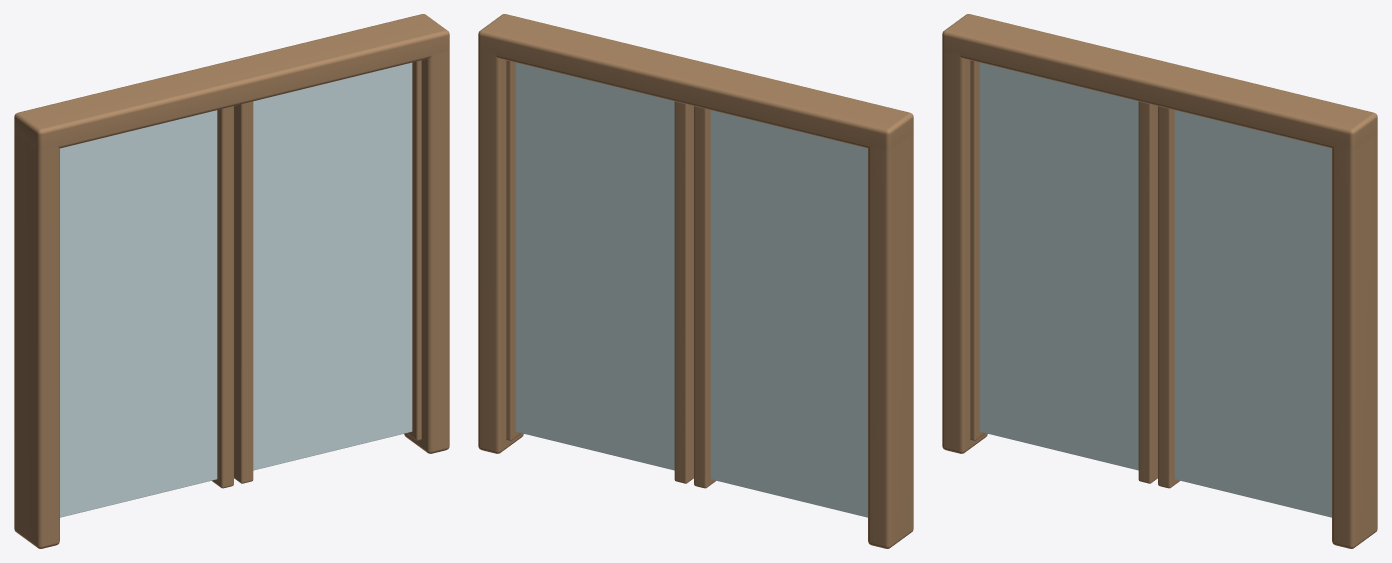
Rendered from atelier-sliding-window.glb.
The picture shows the model from 3 angles, left to right: view 1: azimuth 30°, elevation 25°; view 2: azimuth 150°, elevation 25°; view 3: azimuth 330°, elevation 25°; orthographic projection.
Parts seen in each view (by area): view 1: glass.031, legs.253; view 2: glass.031, legs.253; view 3: glass.031, legs.253.
Part boxes in pixels (bbox=[...]): glass.031: bbox=[60, 62, 412, 517]; legs.253: bbox=[14, 14, 449, 548]; glass.031: bbox=[515, 62, 867, 517]; legs.253: bbox=[478, 14, 913, 548]; glass.031: bbox=[979, 62, 1331, 517]; legs.253: bbox=[942, 14, 1377, 548].
Size of the model in its own units: 1.27 by 1.24 by 0.14.
